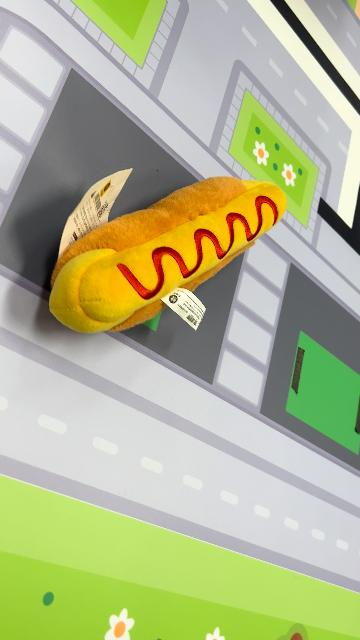hotdog: (48, 174, 288, 336)
